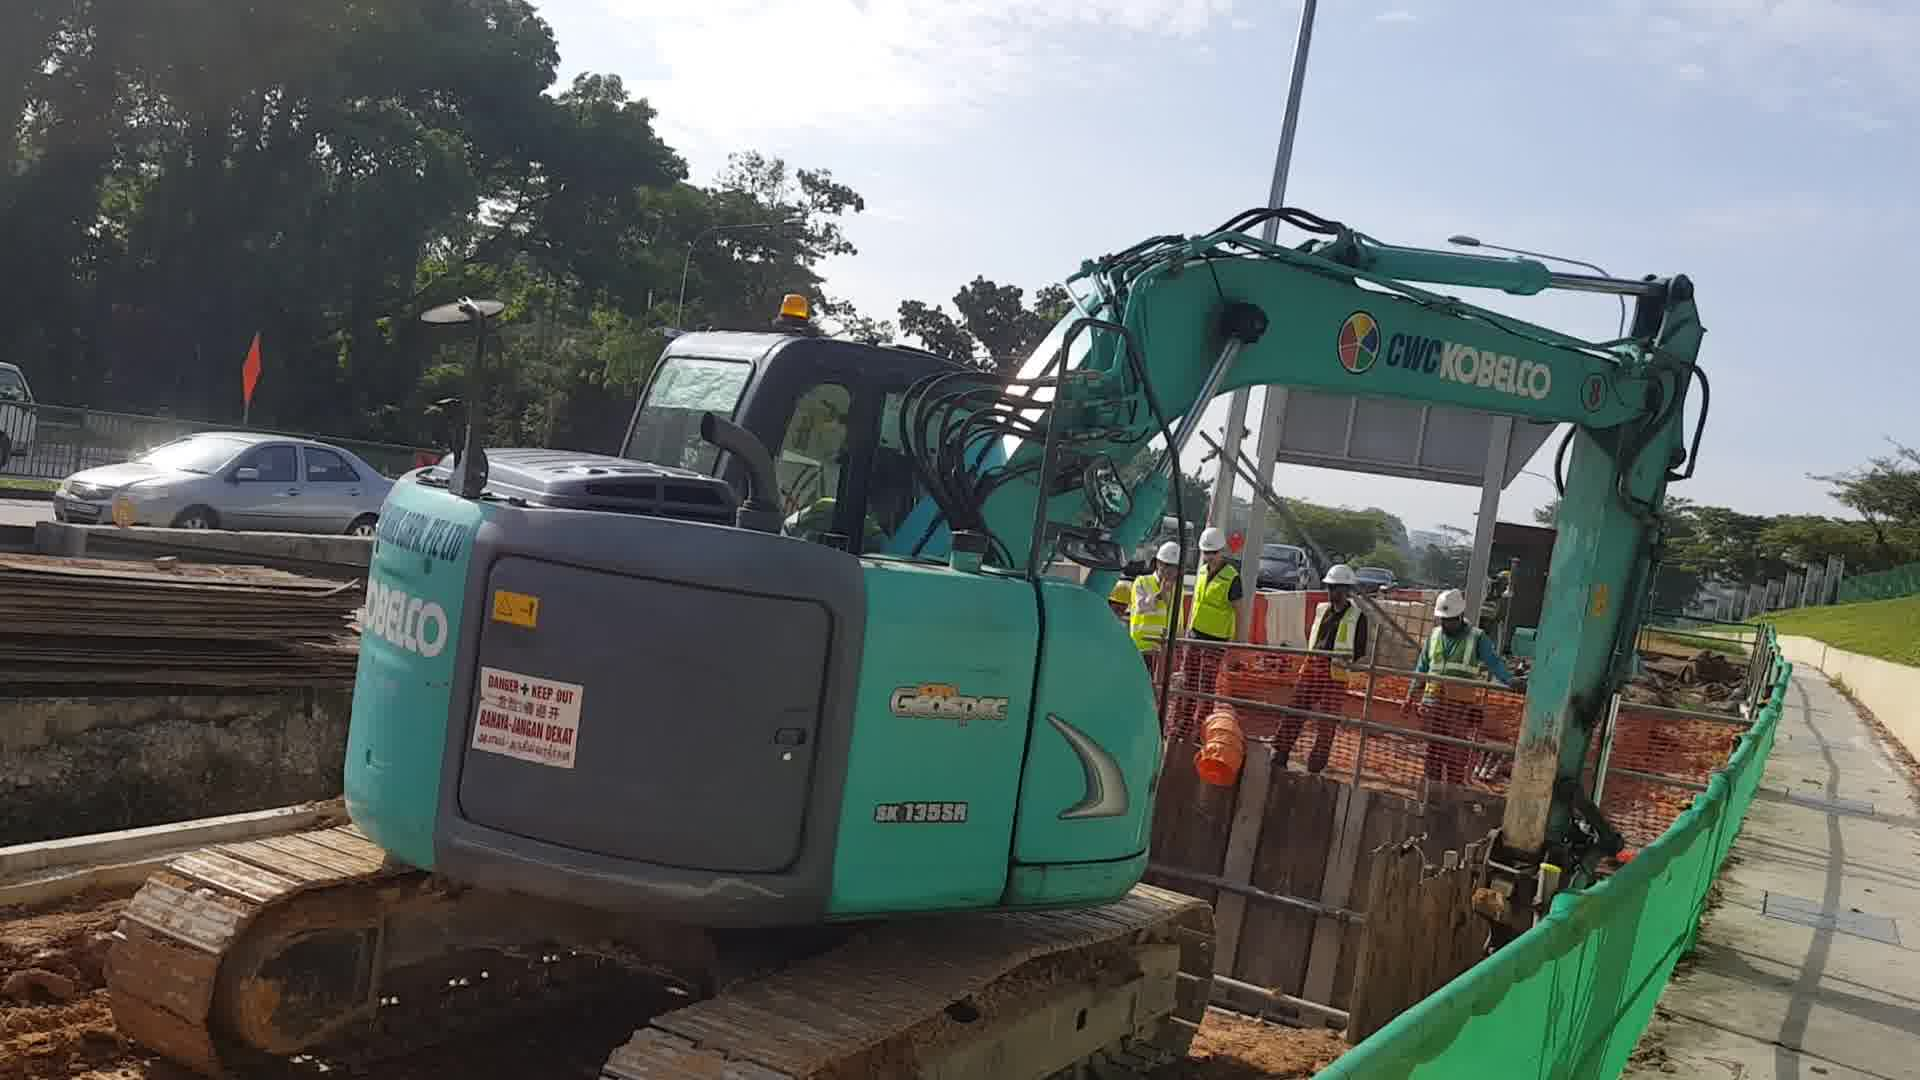cabin: (338, 297, 1153, 923)
forearm: (1494, 276, 1708, 856)
upperarm: (877, 255, 1647, 559)
wheelbase: (113, 816, 1203, 1080)
